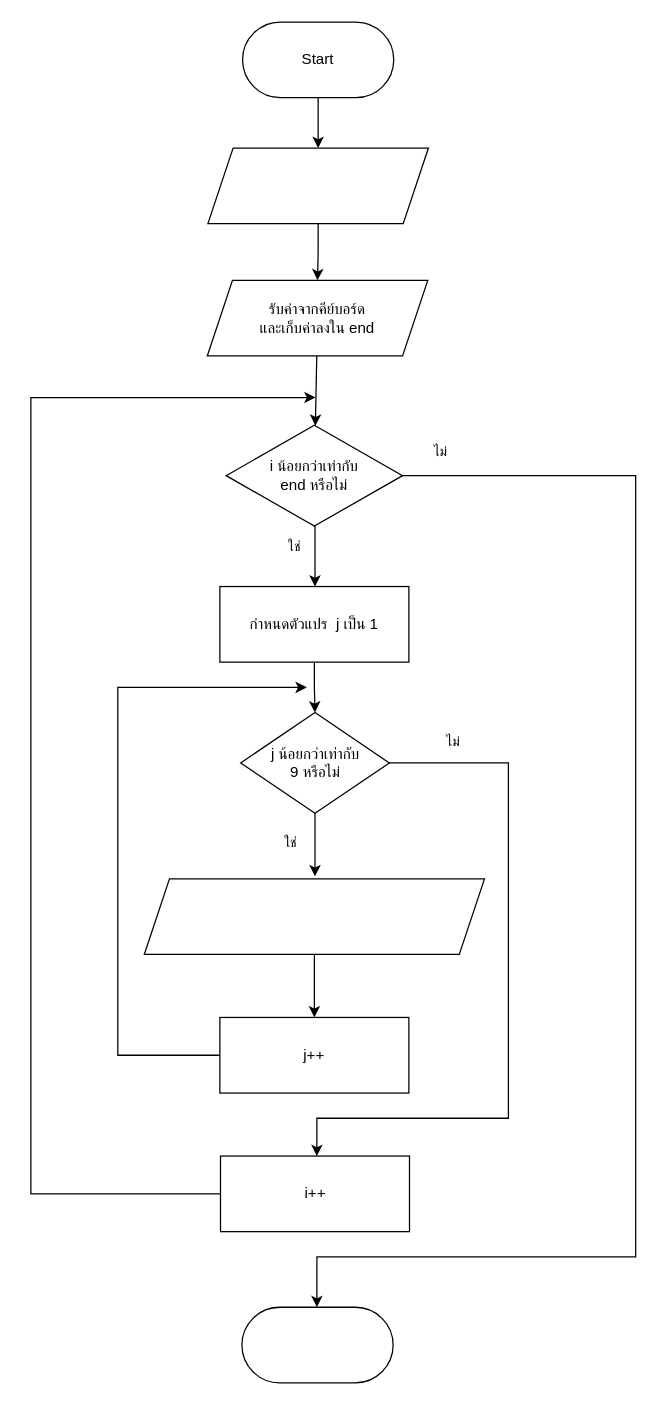
This 668x1405 diagram has some shape labels left out. Each missing label, with the centre of its shape:
End: point 317,1344
รับค่าจากคีย์บอร์ด และเก็บค่าลงใน start: point 317,185
แสดงผลลัพธ์ เป็น " %d x %d = %d" โดยนำค่าจาก i, j และผลลัพธ์ของ i * j มาแสดง: point 313,916
